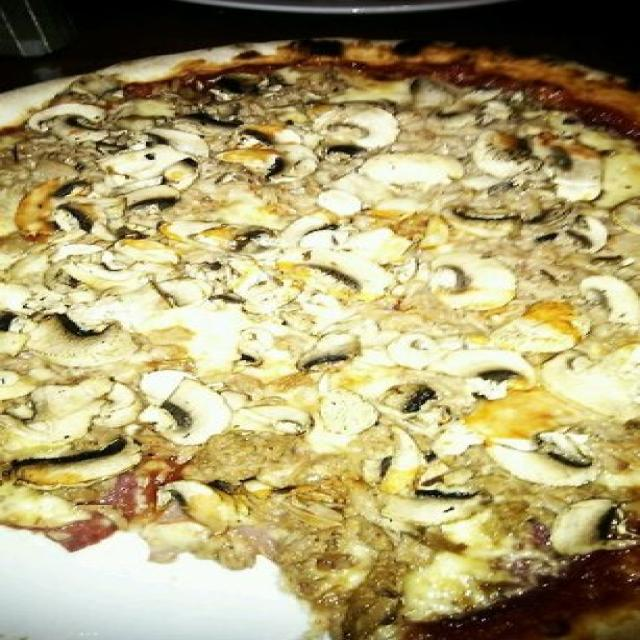Mushrooms: (32, 210, 289, 312), (204, 308, 478, 386), (26, 95, 226, 194), (218, 78, 404, 181), (372, 371, 489, 523), (502, 430, 640, 556), (288, 209, 472, 299), (462, 232, 640, 319), (146, 378, 388, 441), (463, 150, 624, 236), (13, 321, 122, 439), (424, 101, 546, 183)
Pizza: (4, 40, 638, 640)
